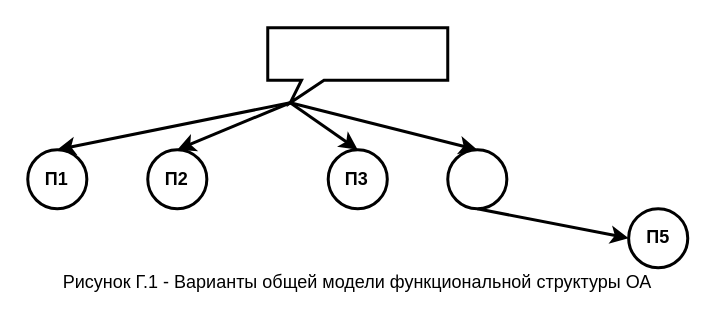
Some shapes in this 714 by 323 pixel diagram are drawn without their labels. Each missing label, with the centre of its shape:
Вариант 5: the point at 357,65
П4: the point at 477,178
